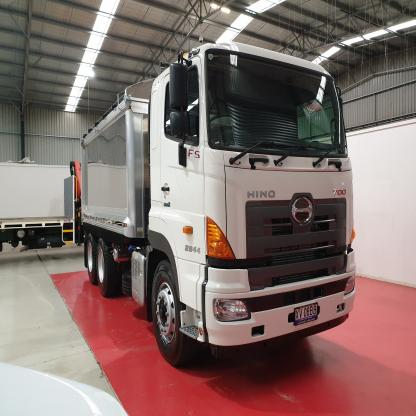dump_truck: (64, 33, 375, 377)
